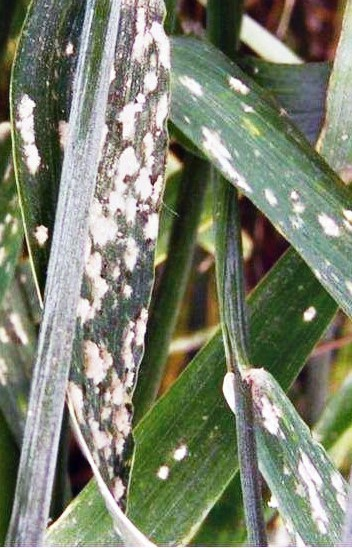Powdery Mildew: (45, 21, 181, 480)
